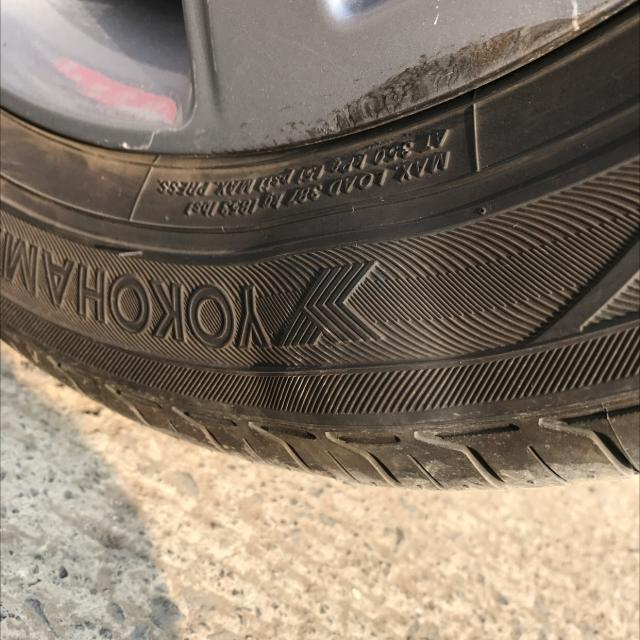Bulge: (250, 174, 470, 450)
